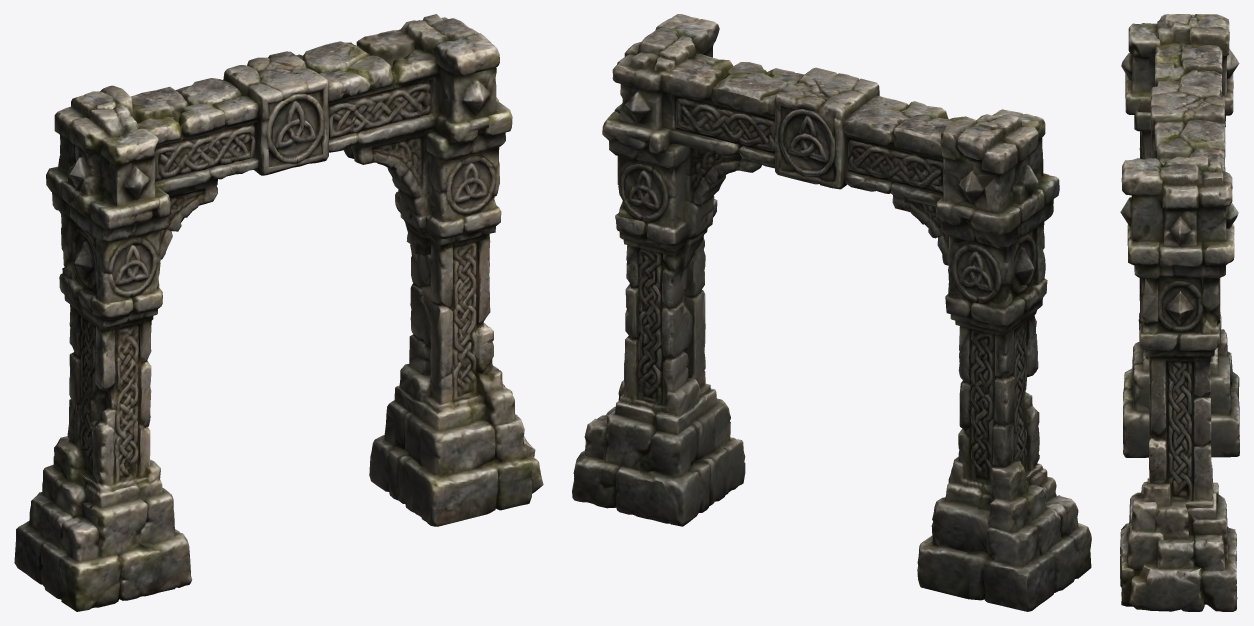
Rendered from CelticArch.fbx.
The picture shows the model from 3 angles, left to right: view 1: azimuth 30°, elevation 25°; view 2: azimuth 150°, elevation 25°; view 3: azimuth 270°, elevation 25°; orthographic projection. The views are drawn at different scales.
Visible parts, largest first — view 1: CelticArch; view 2: CelticArch; view 3: CelticArch.
Boxes of the visible parts, x1,y1,x2,y2 form: CelticArch: (14,14,543,611); CelticArch: (572,14,1091,611); CelticArch: (1120,14,1239,611).
Size of the model in its own units: 490 by 460 by 120.
Materials: 1 (1 with a texture image).
